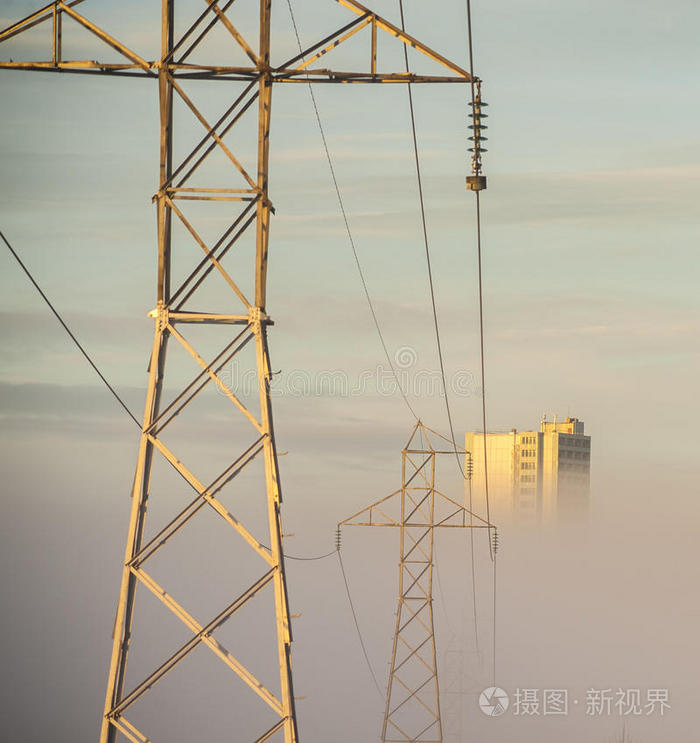insulator: (463, 98, 491, 157)
